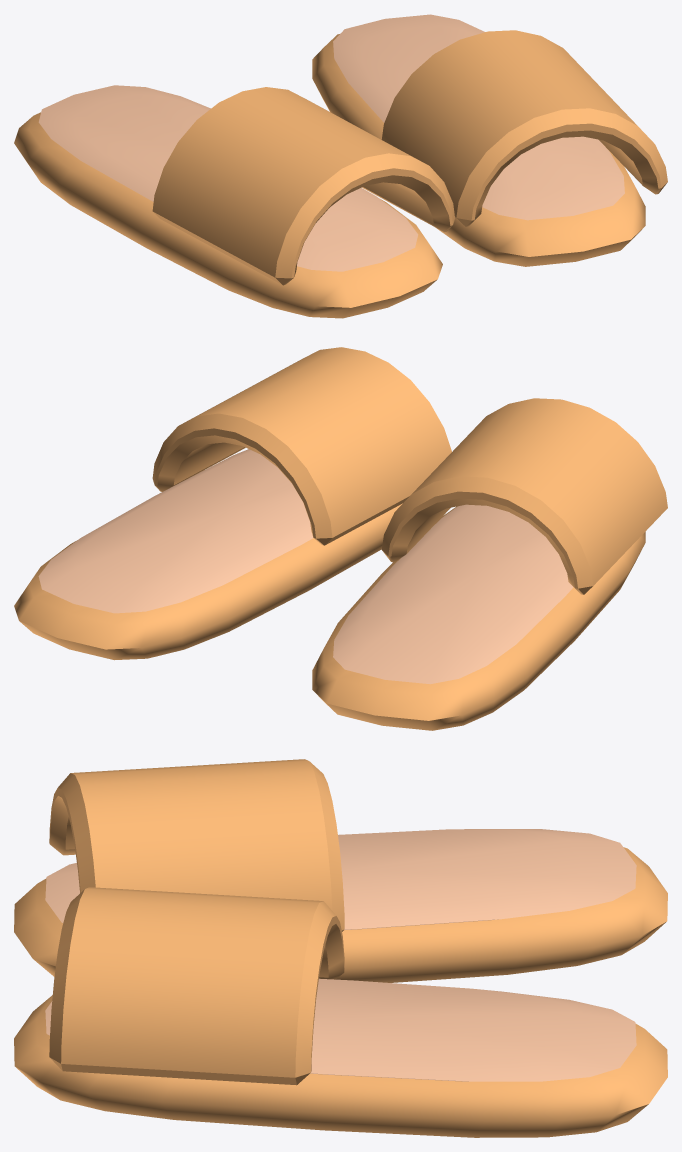
Rendered from chinelos_laranja.glb.
3 views of the same model, one above another, from view 1: azimuth 30°, elevation 25°; view 2: azimuth 150°, elevation 25°; view 3: azimuth 270°, elevation 25° (orthographic). The views are drawn at different scales.
Visible parts, largest first — view 1: chinelos_laranja; view 2: chinelos_laranja; view 3: chinelos_laranja.
Part boxes in pixels (bbox=[...]): chinelos_laranja: bbox=[14, 14, 667, 318]; chinelos_laranja: bbox=[14, 347, 667, 730]; chinelos_laranja: bbox=[14, 759, 667, 1137].
Bounding box in the file's own units: 0.2433 × 0.072 × 0.2476.
1 material, 1 textured.
